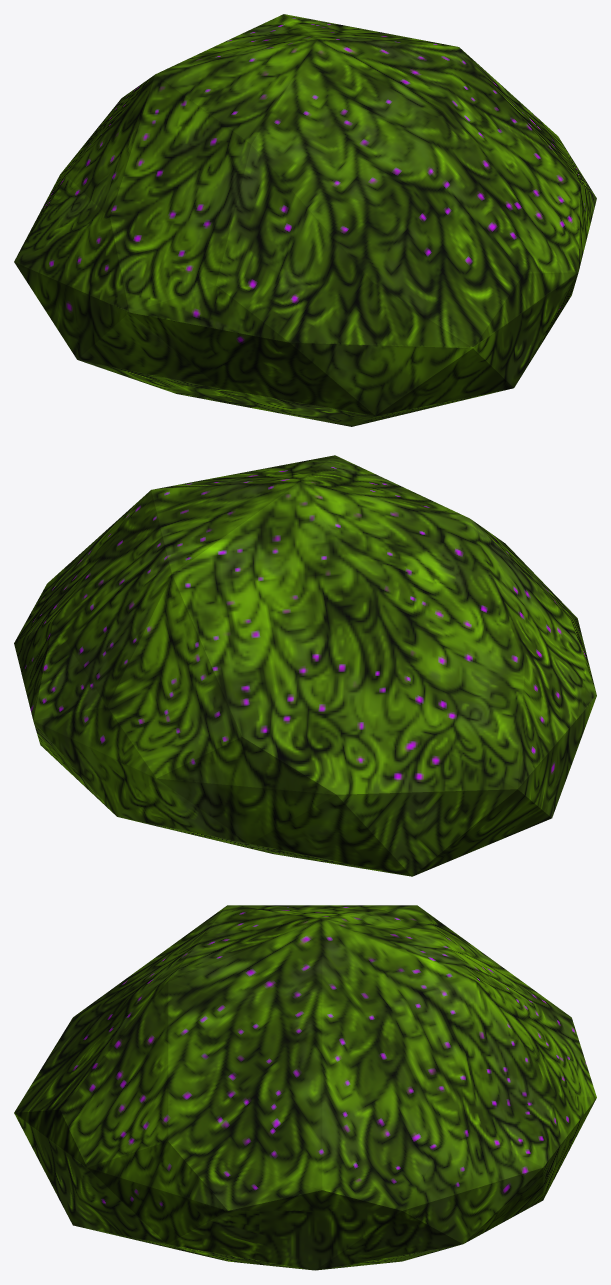
File: UnityBush.fbx
The picture shows the model from 3 angles, top to bottom: view 1: azimuth 30°, elevation 25°; view 2: azimuth 150°, elevation 25°; view 3: azimuth 270°, elevation 25°; orthographic projection. The views are drawn at different scales.
Visible parts, largest first — view 1: baum 1.009; view 2: baum 1.009; view 3: baum 1.009.
Part boxes in pixels (left/top/right/bottom): baum 1.009: left=14, top=14, right=596, bottom=426; baum 1.009: left=14, top=455, right=596, bottom=876; baum 1.009: left=14, top=905, right=596, bottom=1270.
Size of the model in its own units: 875 by 539 by 896.
Materials: 1 (1 with a texture image).
